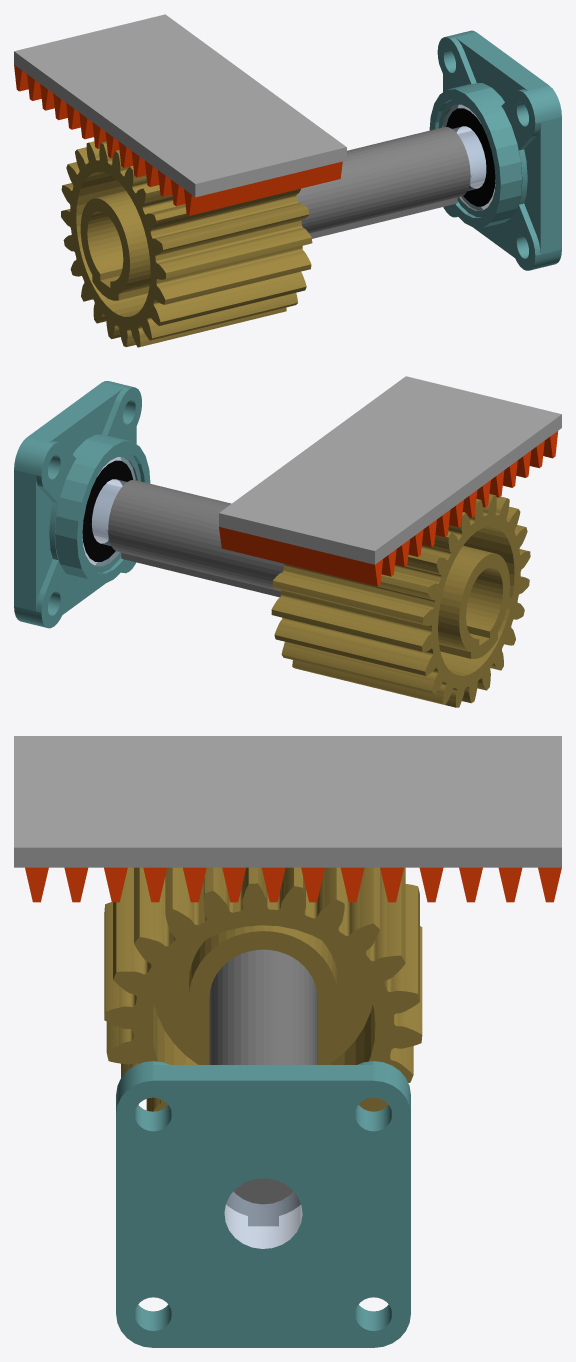
File: peca (1).glb
The picture shows the model from 3 angles, top to bottom: view 1: azimuth 30°, elevation 25°; view 2: azimuth 150°, elevation 25°; view 3: azimuth 270°, elevation 25°; orthographic projection. The views are drawn at different scales.
Visible parts, largest first — view 1: Engranaje_2, Componente#10_14, Object_8, Object_13, Componente#11_12, Object_11, Object_10; view 2: Componente#10_14, Engranaje_2, Object_8, Object_13, Componente#11_11, Object_11, Object_10; view 3: Object_8, Componente#10_14, Engranaje_2, Object_13, Object_10.
Boxes of the visible parts, <box> form: Engranaje_2: <box>61,141,312,347</box>; Componente#10_14: <box>14,14,346,197</box>; Object_8: <box>429,30,561,270</box>; Object_13: <box>296,127,470,238</box>; Componente#11_12: <box>184,161,342,215</box>; Object_11: <box>446,108,495,206</box>; Object_10: <box>444,104,495,210</box>; Componente#10_14: <box>219,376,561,564</box>; Engranaje_2: <box>271,494,530,707</box>; Object_8: <box>14,381,150,628</box>; Object_13: <box>108,480,284,597</box>; Componente#11_11: <box>219,527,382,586</box>; Object_11: <box>82,460,133,561</box>; Object_10: <box>82,457,135,566</box>; Object_8: <box>116,1061,410,1347</box>; Componente#10_14: <box>14,736,561,867</box>; Engranaje_2: <box>104,867,422,1111</box>; Object_13: <box>209,949,317,1225</box>; Object_10: <box>224,1191,302,1248</box>.
Bounding box in the file's own units: 0.0901 × 0.0458 × 0.0694.
